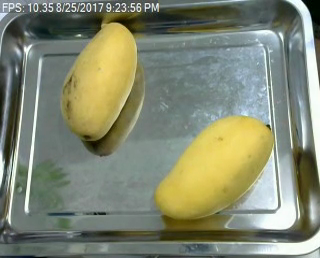Mango: (150, 112, 279, 221), (61, 23, 140, 144)
